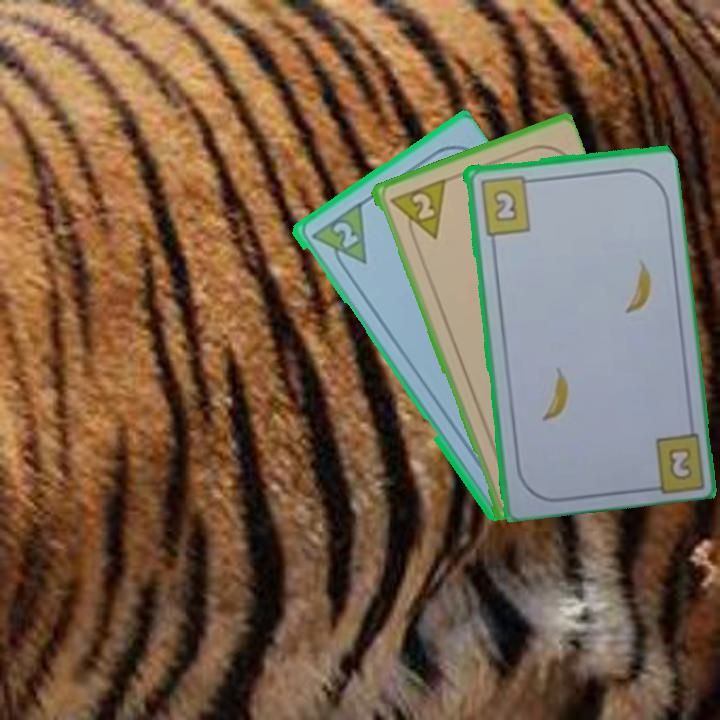2b: (476, 172, 538, 237), (664, 443, 697, 483)
2p: (385, 175, 448, 247), (328, 217, 361, 251)
